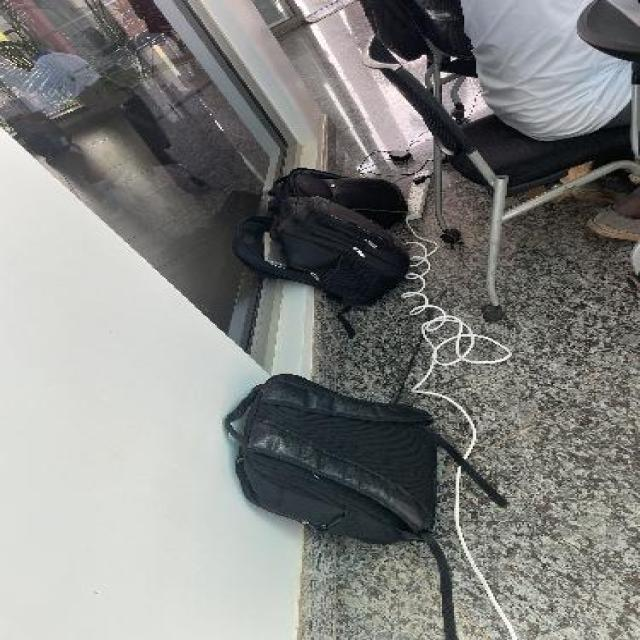canta: (223, 374, 511, 640), (233, 195, 409, 337), (270, 168, 406, 232)
